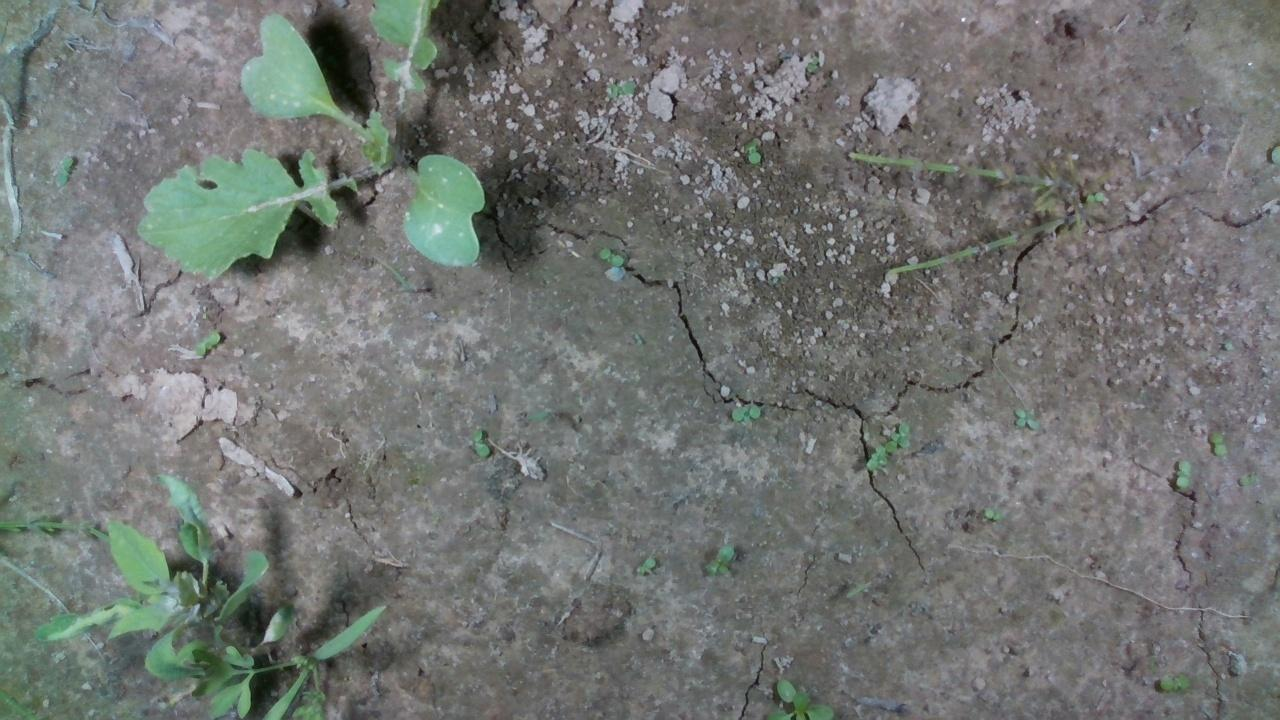weed: (1007, 402, 1048, 443), (466, 427, 501, 460), (726, 397, 765, 423), (596, 246, 632, 271), (1168, 454, 1193, 490), (1205, 431, 1231, 465), (743, 137, 764, 168), (634, 560, 656, 582)
